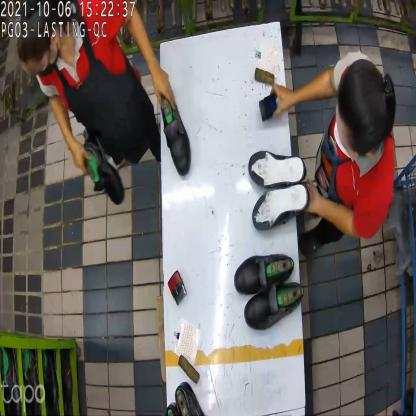shoes: (79, 96, 193, 205), (247, 147, 313, 232), (232, 252, 302, 330)
stamp: (257, 91, 279, 125), (170, 271, 188, 304)
